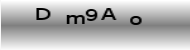9: (86, 7, 100, 20)
A: (101, 7, 117, 20)
D: (36, 7, 51, 20)
m: (66, 13, 87, 25)
o: (129, 14, 142, 25)
